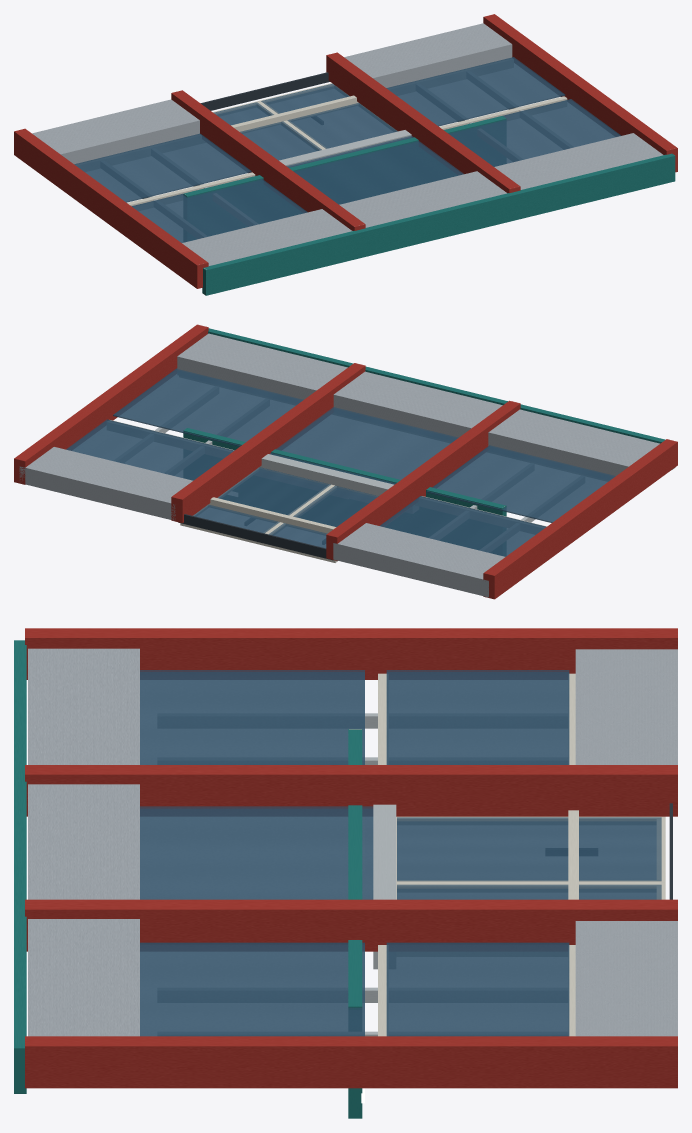
The model's file is MOD_02_AccessibleEntry_10m.glb.
The picture shows the model from 3 angles, top to bottom: view 1: azimuth 30°, elevation 25°; view 2: azimuth 150°, elevation 25°; view 3: azimuth 270°, elevation 25°; orthographic projection. The views are drawn at different scales.
Visible parts, largest first — view 1: REN_Entry_FullHeightSidelights, REN_Entry_StructuralPiers, REN_Entry_Coping, REN_Entry_Parapet, REN_Entry_SideBaseWalls, REN_Entry_TransomGlazing, REN_Right_GlassPane, REN_Entry_Transoms, REN_Left_GlassPane, REN_Entry_CanopyLip, REN_Entry_DoorTrack_Inside, REN_Entry_AutomaticDoorHeader; view 2: REN_Entry_FullHeightSidelights, REN_Entry_StructuralPiers, REN_Entry_Parapet, REN_Entry_SideBaseWalls, REN_Entry_TransomGlazing, REN_Right_GlassPane, REN_Left_GlassPane, REN_Entry_Coping, REN_Entry_CanopyLip, REN_Entry_AutomaticDoorHeader, REN_Entry_DoorTrack_Inside, REN_Entry_Transoms; view 3: REN_Entry_StructuralPiers, REN_Entry_FullHeightSidelights, REN_Entry_Parapet, REN_Entry_SideBaseWalls, REN_Entry_TransomGlazing, REN_Left_GlassPane, REN_Entry_Coping, REN_Right_GlassPane, REN_Entry_Transoms, REN_Entry_CanopyLip, REN_Entry_AutomaticDoorHeader, REN_Right_LeftRail (+2 smaller).
Boxes of the visible parts, box(x1,y1,x2,y2) form: REN_Entry_FullHeightSidelights: box(74, 57, 621, 242); REN_Entry_StructuralPiers: box(14, 14, 677, 288); REN_Entry_Coping: box(202, 153, 675, 295); REN_Entry_Parapet: box(182, 133, 663, 265); REN_Entry_SideBaseWalls: box(32, 23, 512, 164); REN_Entry_TransomGlazing: box(286, 135, 463, 204); REN_Right_GlassPane: box(261, 83, 397, 148); REN_Entry_Transoms: box(127, 95, 567, 206); REN_Left_GlassPane: box(213, 102, 321, 160); REN_Entry_CanopyLip: box(183, 116, 506, 198); REN_Entry_DoorTrack_Inside: box(200, 72, 329, 110); REN_Entry_AutomaticDoorHeader: box(279, 130, 411, 166); REN_Entry_FullHeightSidelights: box(66, 368, 615, 556); REN_Entry_StructuralPiers: box(14, 324, 677, 599); REN_Entry_Parapet: box(177, 333, 659, 476); REN_Entry_SideBaseWalls: box(19, 447, 504, 597); REN_Entry_TransomGlazing: box(270, 407, 458, 484); REN_Right_GlassPane: box(193, 467, 330, 533); REN_Left_GlassPane: box(269, 485, 378, 548); REN_Entry_Coping: box(208, 328, 675, 469); REN_Entry_CanopyLip: box(183, 428, 506, 516); REN_Entry_AutomaticDoorHeader: box(260, 454, 393, 495); REN_Entry_DoorTrack_Inside: box(178, 514, 333, 560); REN_Entry_Transoms: box(110, 420, 546, 534); REN_Entry_StructuralPiers: box(25, 628, 677, 1088); REN_Entry_FullHeightSidelights: box(140, 670, 569, 1036); REN_Entry_Parapet: box(28, 648, 139, 1036); REN_Entry_SideBaseWalls: box(575, 649, 677, 1036); REN_Entry_TransomGlazing: box(140, 806, 373, 899); REN_Left_GlassPane: box(397, 817, 661, 881); REN_Entry_Coping: box(14, 640, 26, 1093); REN_Right_GlassPane: box(397, 884, 661, 899); REN_Entry_Transoms: box(378, 673, 578, 1036); REN_Entry_CanopyLip: box(348, 729, 362, 1118); REN_Entry_AutomaticDoorHeader: box(373, 804, 396, 969); REN_Right_LeftRail: box(396, 883, 661, 888).
Size of the model in its own units: 10.24 by 1.63 by 6.88.
4 materials, 3 textured.
